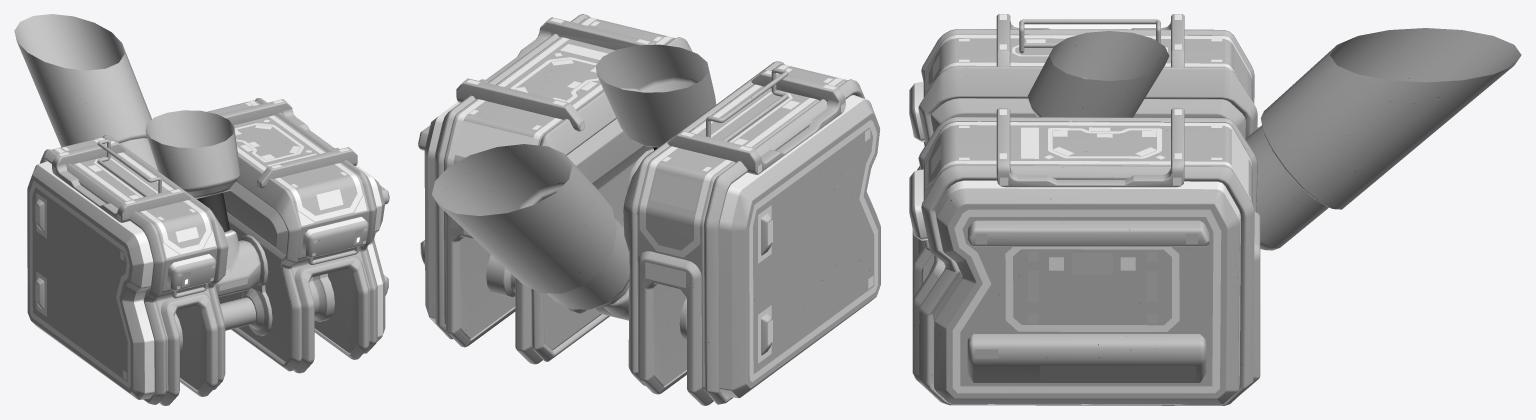
File: SM_PistonBase_Merged.fbx
3 views of the same model, side by side, from view 1: azimuth 30°, elevation 25°; view 2: azimuth 150°, elevation 25°; view 3: azimuth 270°, elevation 25° (orthographic). The views are drawn at different scales.
Visible parts, largest first — view 1: SM_PistonBase_Merged_LOD0; view 2: SM_PistonBase_Merged_LOD0; view 3: SM_PistonBase_Merged_LOD0.
Part boxes in pixels (left/top/right/bottom): SM_PistonBase_Merged_LOD0: left=14, top=14, right=389, bottom=405; SM_PistonBase_Merged_LOD0: left=418, top=14, right=880, bottom=405; SM_PistonBase_Merged_LOD0: left=909, top=14, right=1521, bottom=405.
Bounding box in the file's own units: 344 × 508 × 256.
